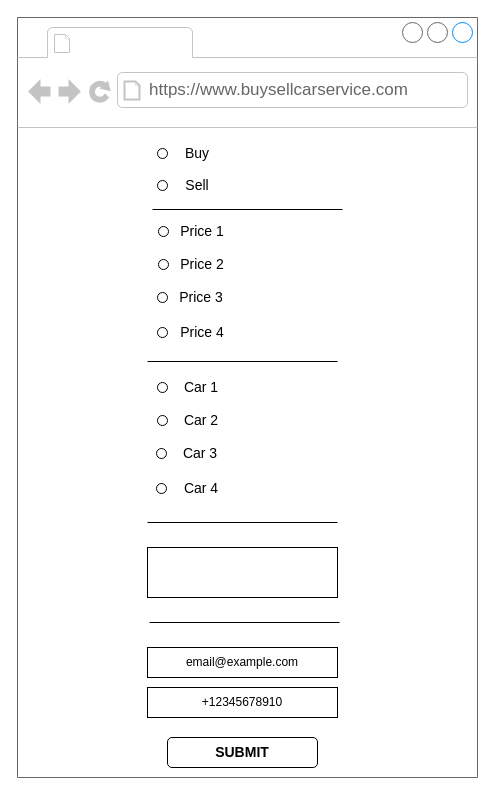
This 495x795 diagram has some shape labels left out. The box of each missing label's shape, as (x1, y1, x2, y2) in pixels:
My car sell/buy announcement here: (146, 546, 338, 598)
Page 1: (76, 28, 188, 56)
